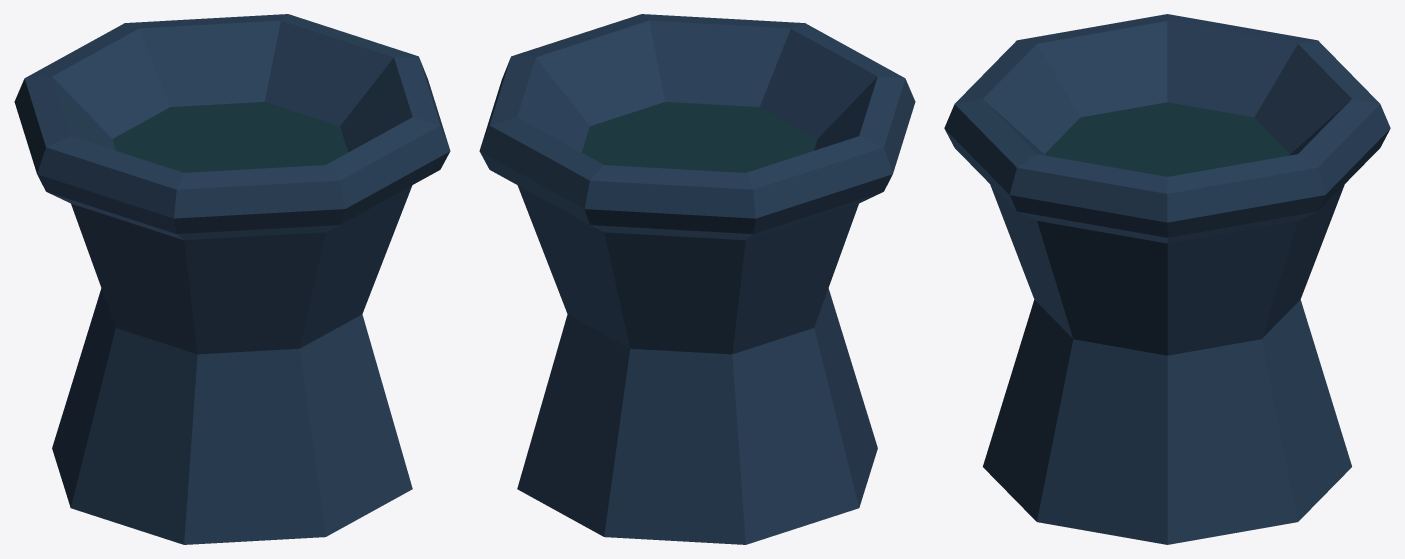
The model's file is wooden_seat_2.FBX.
3 views of the same model, side by side, from view 1: azimuth 30°, elevation 25°; view 2: azimuth 150°, elevation 25°; view 3: azimuth 270°, elevation 25° (orthographic).
Visible parts, largest first — view 1: wooden_seat_2; view 2: wooden_seat_2; view 3: wooden_seat_2.
Boxes of the visible parts, x1=… form: wooden_seat_2: x1=14, y1=14, x2=450, y2=544; wooden_seat_2: x1=479, y1=14, x2=915, y2=544; wooden_seat_2: x1=944, y1=14, x2=1390, y2=544.
Size of the model in its own units: 0.6646 by 0.6044 by 0.6646.
Materials: 1 (1 with a texture image).
